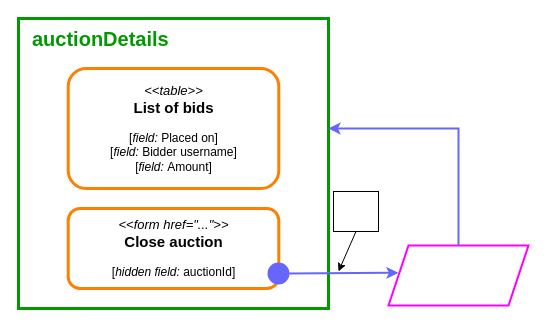
Some shapes in this 547 by 327 pixel diagram are drawn without their labels. The shapes that lost their labels are listed below. From the top down, each one's centre as x and y in pixels, then its label:
[355,211]: POST id
[458,275]: <<HttpServlet>> closeAuction
